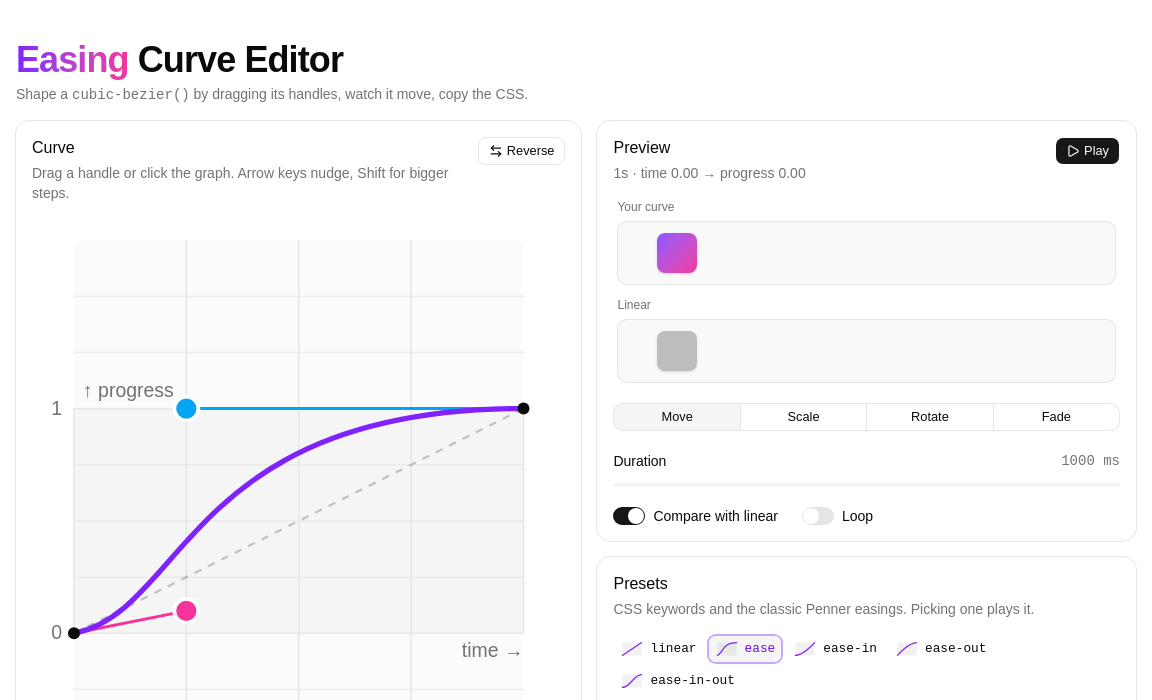
Test: preview › switches the animated property and hides the linear lane
Click the button "Scale" at (804, 417), box top-left (741, 403), bottom-right (867, 431)
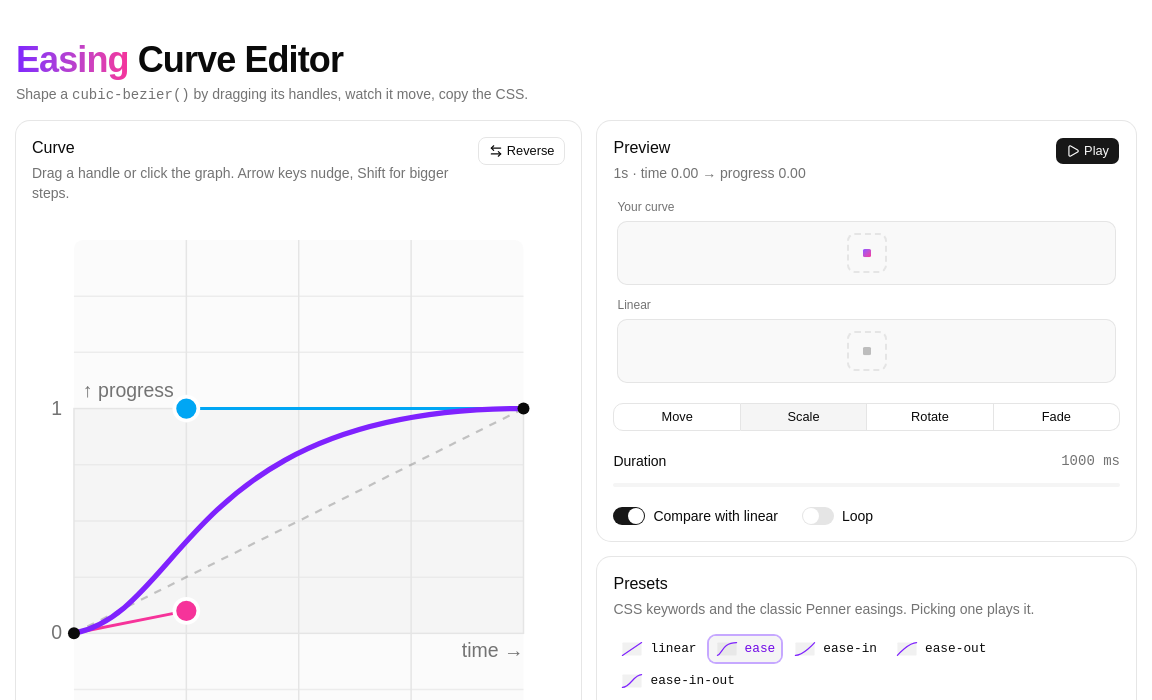
Click the button "Rotate" at (930, 417), box top-left (867, 403), bottom-right (994, 431)
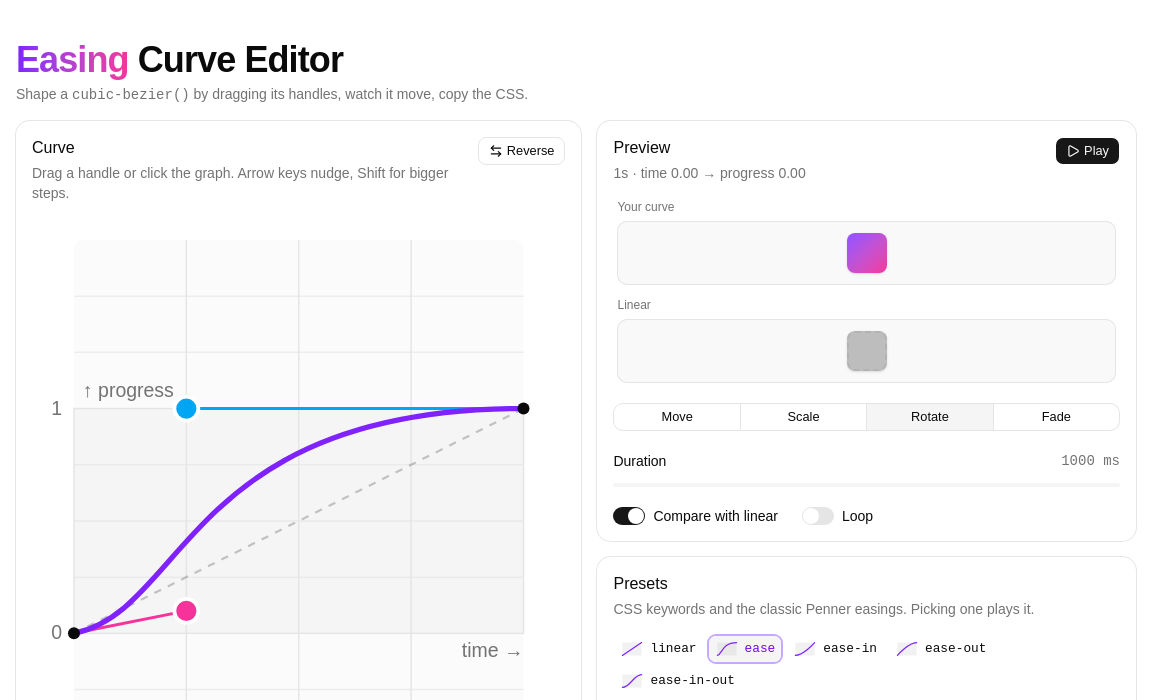
Expected: the element with test id "lane-linear" is shown, top-left (618, 319), bottom-right (1116, 383)
Click the switch named "Compare with linear" next to "Compare with linear" at (630, 516), box top-left (614, 507), bottom-right (646, 525)
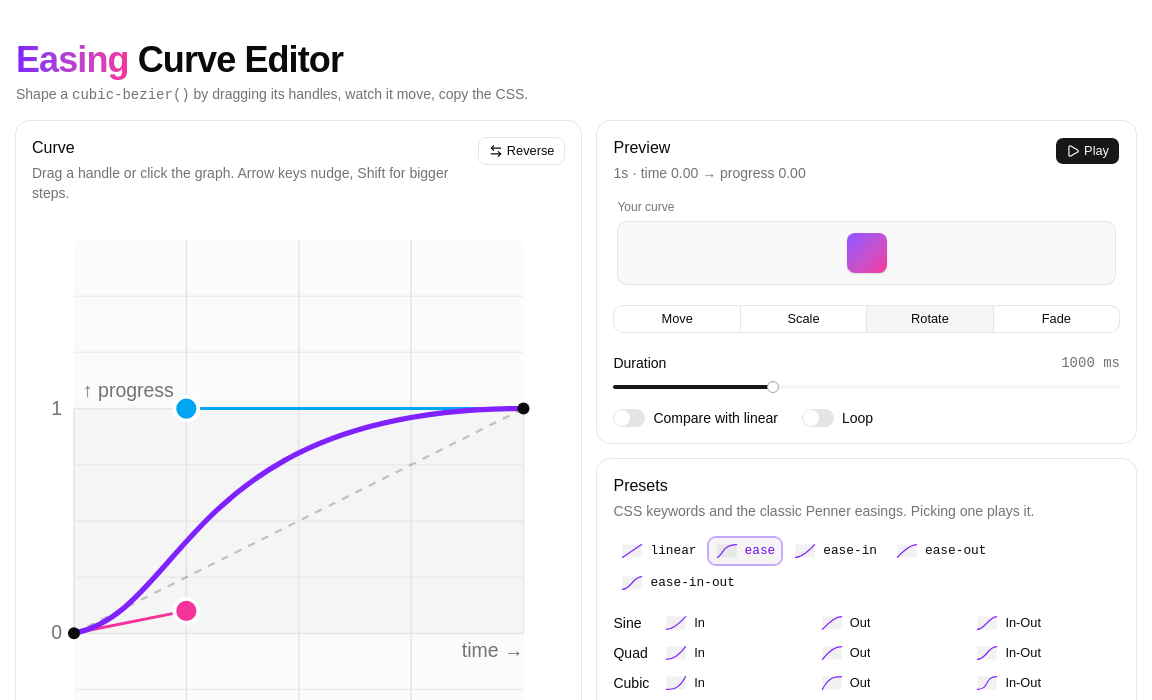
Now the element with test id "lane-linear" is gone
